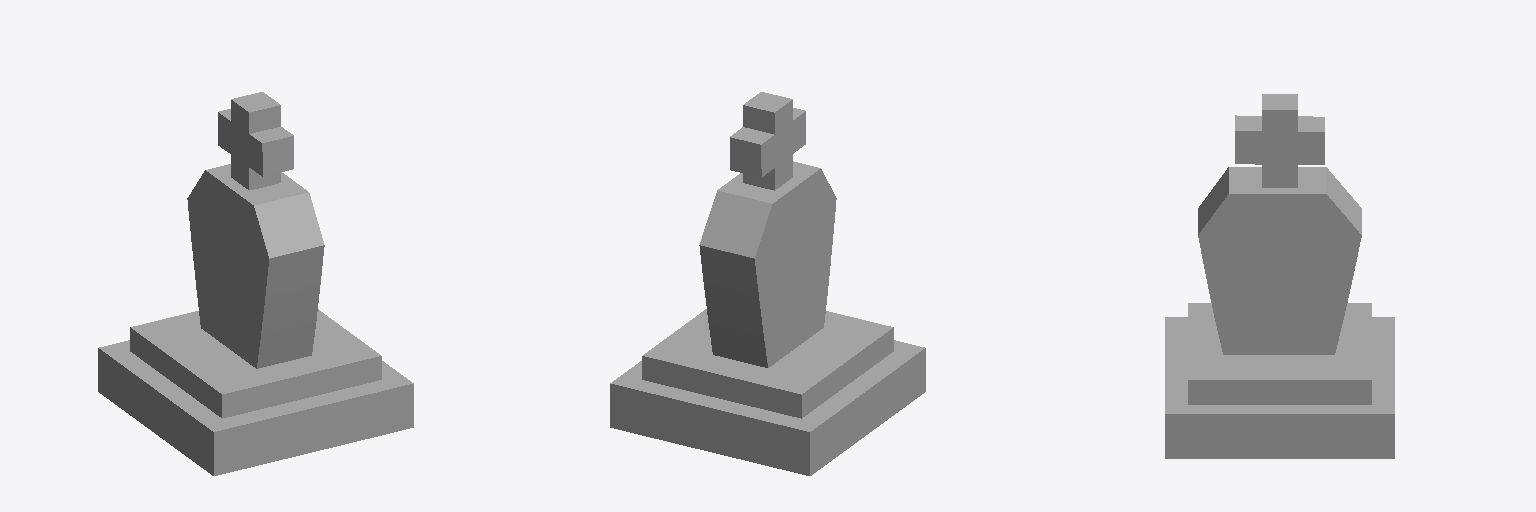
The picture shows the model from 3 angles: view 1: azimuth 30°, elevation 25°; view 2: azimuth 150°, elevation 25°; view 3: azimuth 270°, elevation 25°; orthographic projection.
Parts seen in each view (by area): view 1: 立方体.001; view 2: 立方体.001; view 3: 立方体.001.
Part boxes in pixels (left/top/right/bottom): 立方体.001: left=98, top=92, right=413, bottom=475; 立方体.001: left=610, top=92, right=925, bottom=475; 立方体.001: left=1165, top=94, right=1394, bottom=458.
Size of the model in its own units: 2.51 by 3.69 by 2.51.
Materials: 1 (1 with a texture image).